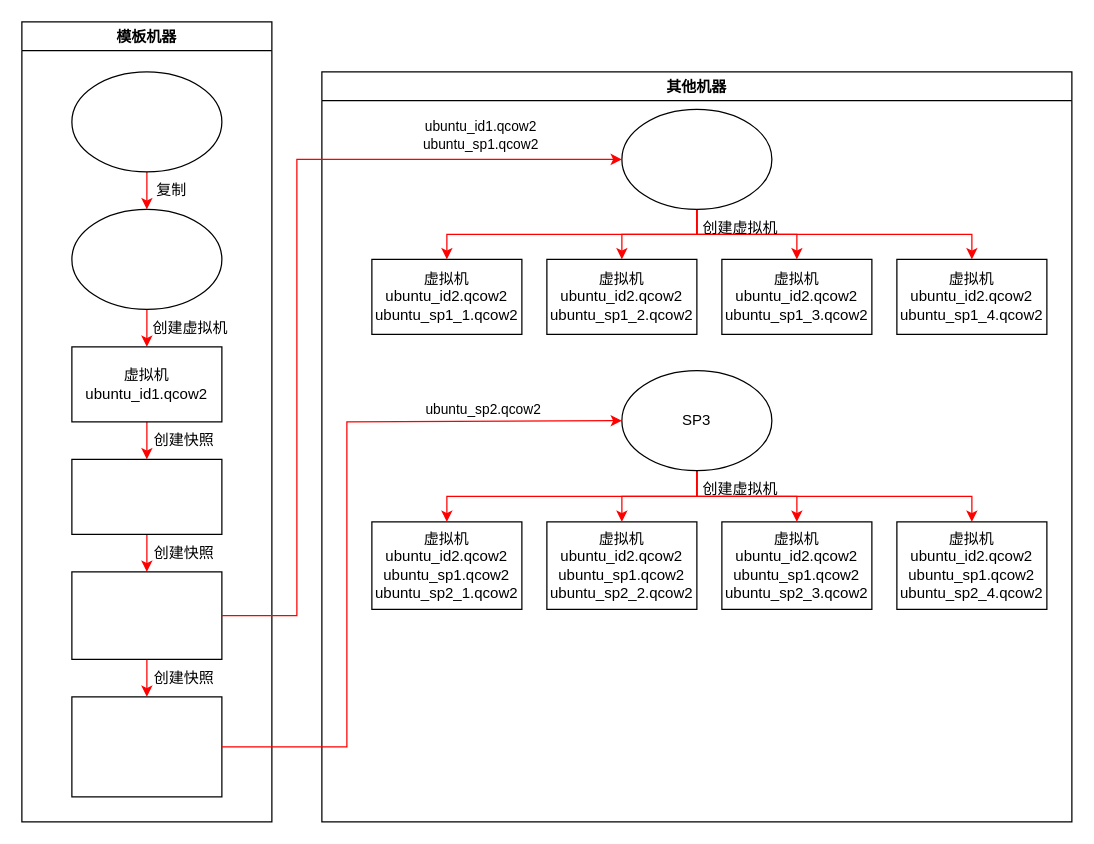
Some shapes in this 1094 by 844 pixel diagram are drawn without their labels. The shapes that lost their labels are listed below. From the top down, each one's centre as x and y in pixels, then its label:
At (x=146, y=121): "ubuntu.qcow2".
At (x=696, y=158): "ubuntu_id1.qcow2 复制一份 ubuntu_id2.qcow2".
At (x=146, y=258): "ubuntu_id1.qcow2".
At (x=146, y=496): "快照SP1 ubuntu_id1.qcow2 ubuntu_sp1.qcow2".
At (x=146, y=615): "快照SP2 ubuntu_id1.qcow2 ubuntu_sp1.qcow2 ubuntu_sp2.qcow2".
At (x=146, y=746): "快照SP3 ubuntu_id1.qcow2 ubuntu_sp1.qcow2 ubuntu_sp2.qcow2 ubuntu_sp3.qcow2".
